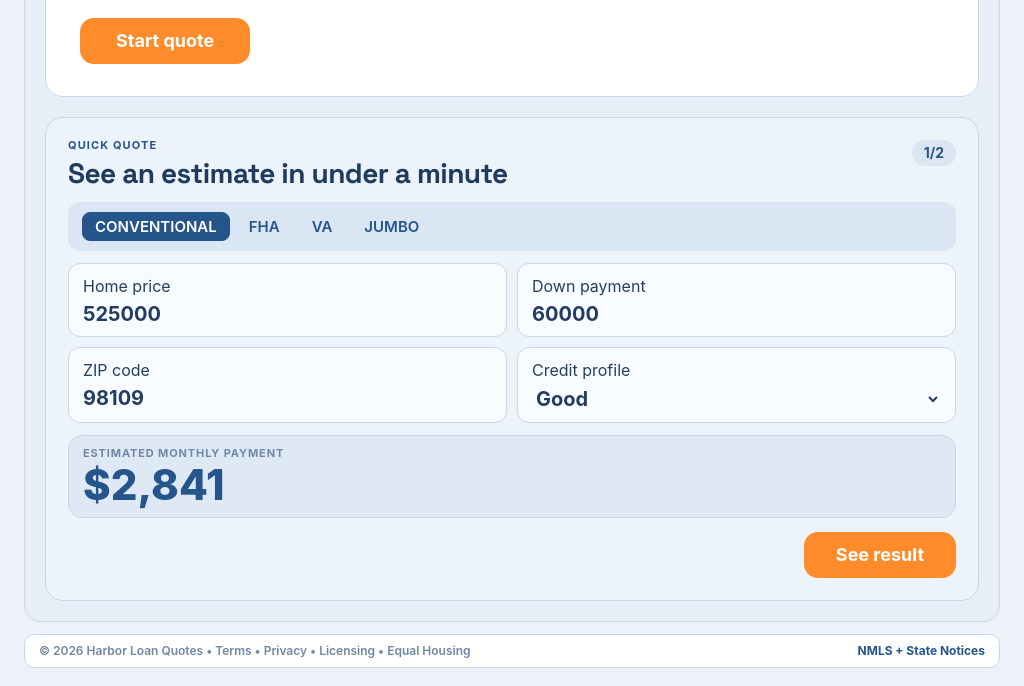
Scenario: Borrower demo app › routes unauthenticated users to sign in when they try to refine a quote
(page scrolled)
Click the button "See result" at (880, 555), box [804,532,956,578]
(page scrolled)
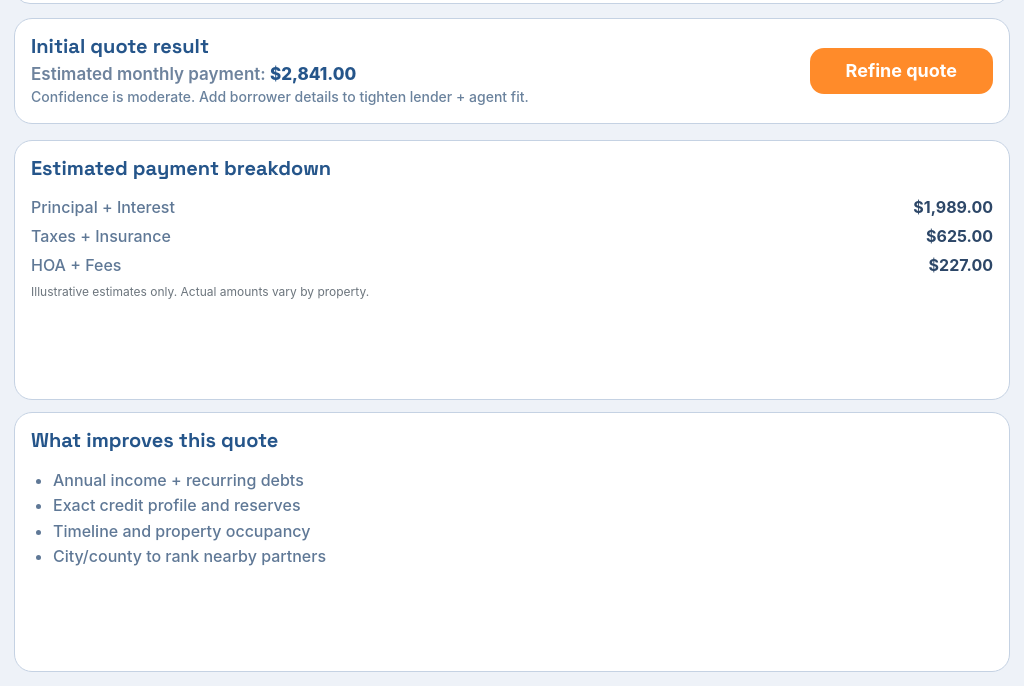
Check: the heading "Initial quote result" is shown, box [31,33,209,59]
Click the button "Refine quote" at (901, 71), box [810,48,993,94]
(page scrolled)
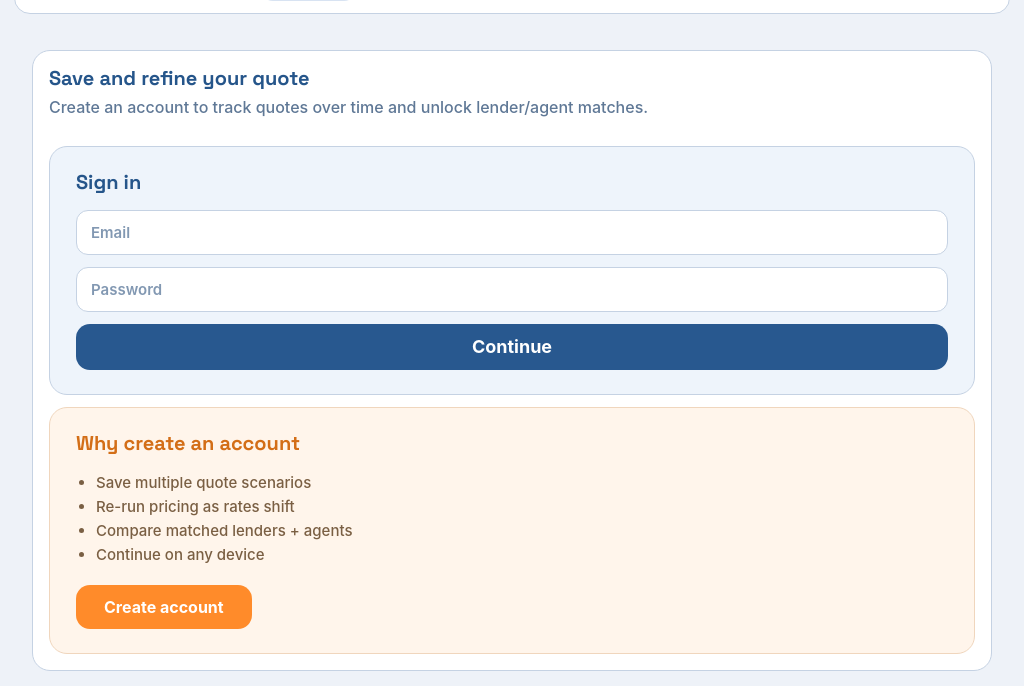
Check: the heading "Save and refine your quote" is shown, box [49,65,310,91]
